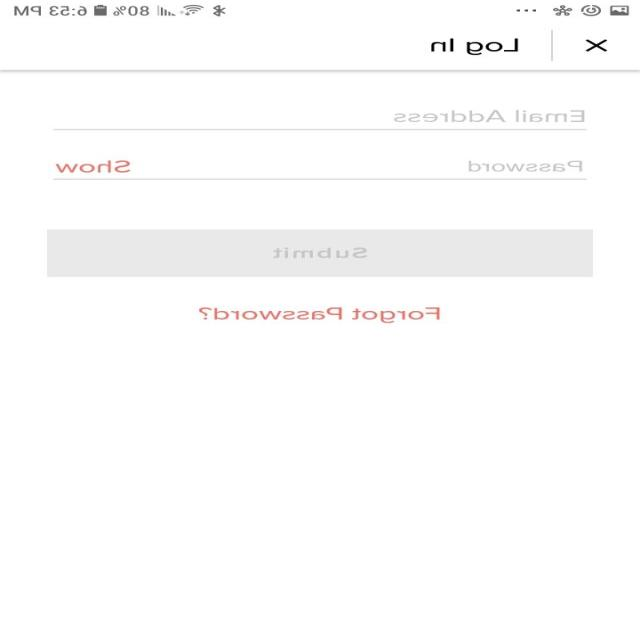EditText: (53, 156, 587, 180), (54, 109, 588, 131)
Icon: (585, 39, 608, 52)
Text: (199, 307, 441, 323), (394, 110, 585, 122), (431, 38, 519, 55), (468, 160, 584, 172), (56, 160, 132, 173)
TextButton: (48, 229, 594, 277)
